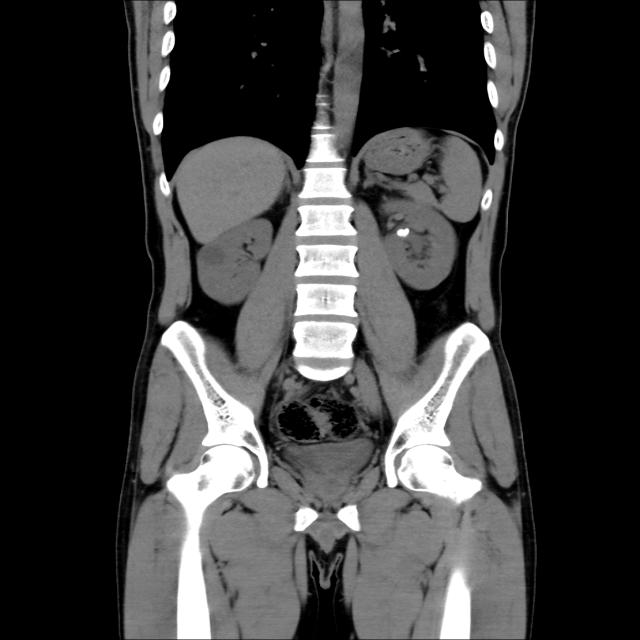kidneystone: (396, 228, 410, 238)
